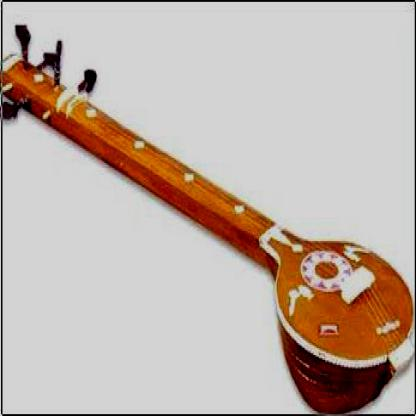Veena: (154, 159, 413, 398)
